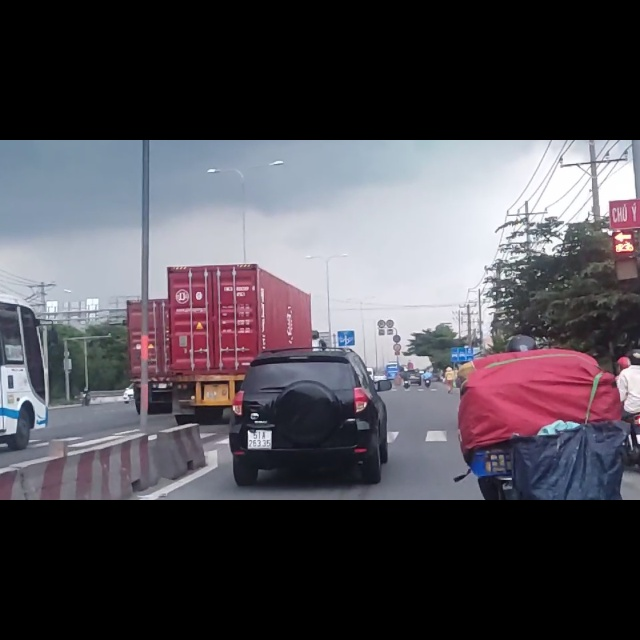bien_chi_dan: (451, 369, 474, 392)
